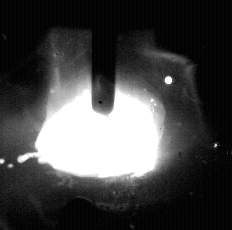arame: (93, 0, 116, 115)
poca: (42, 0, 165, 230)
